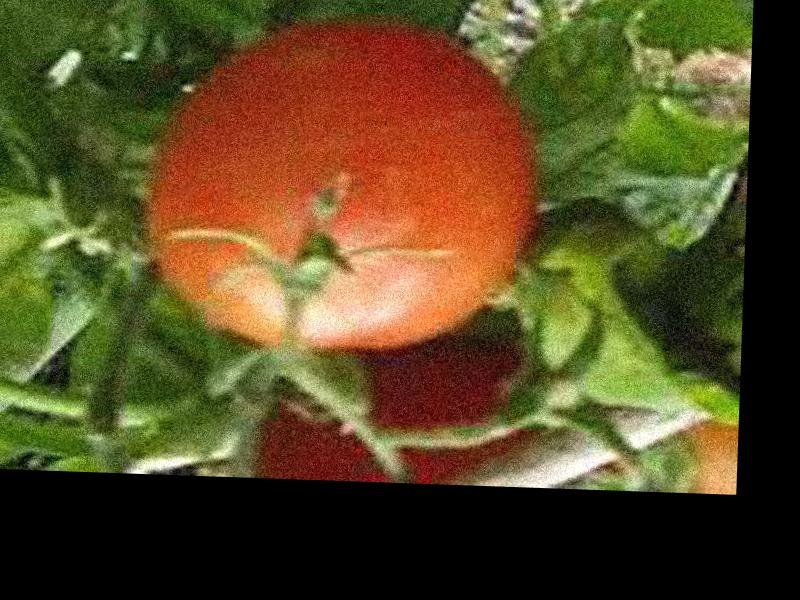Tomato: (146, 23, 536, 358)
